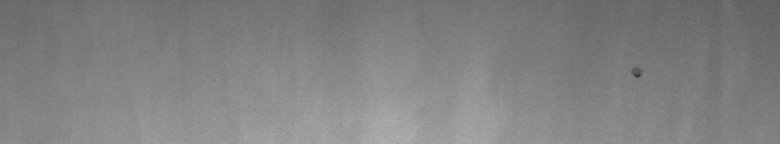fi: (629, 61, 644, 84)
